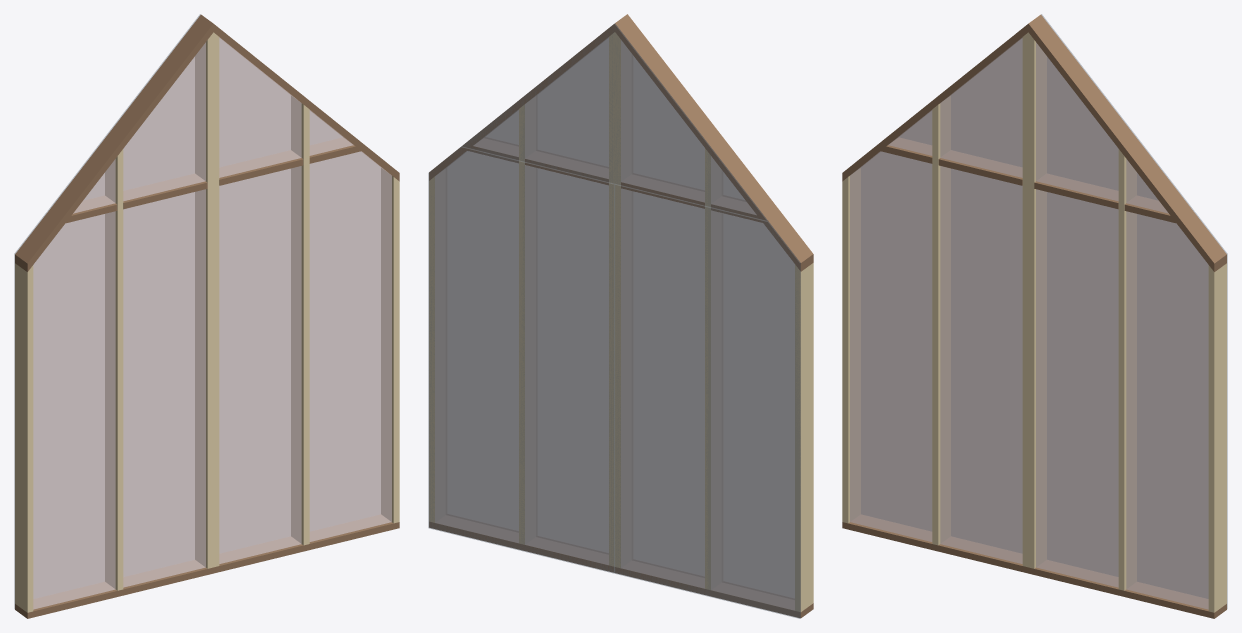
The model's file is EX2_GBL.glb.
3 renders of one model, left to right at view 1: azimuth 30°, elevation 25°; view 2: azimuth 150°, elevation 25°; view 3: azimuth 330°, elevation 25°, orthographic.
Visible parts, largest first — view 1: EX2 GBL; view 2: EX2 GBL; view 3: EX2 GBL.
Part boxes in pixels (x1,y1,x2,y2): EX2 GBL: (14, 14, 399, 618); EX2 GBL: (428, 14, 813, 618); EX2 GBL: (842, 14, 1227, 618).
Size of the model in its own units: 2.4 by 3.39 by 0.149.
